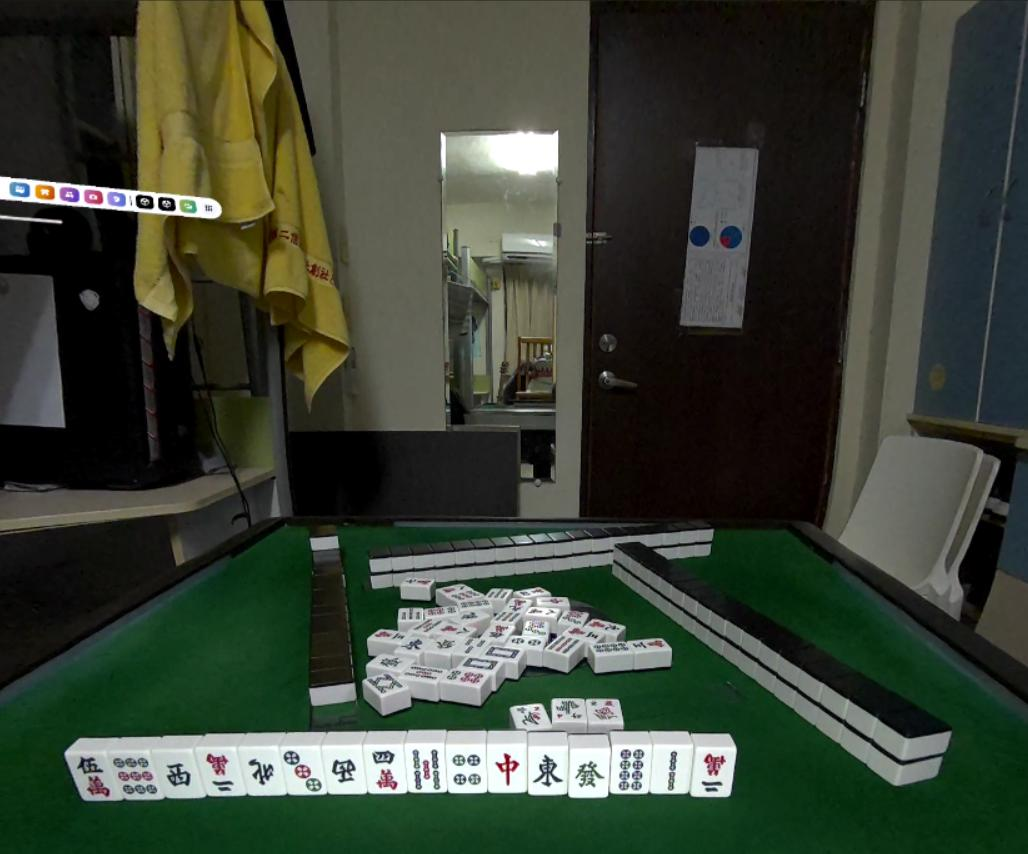mahjong: (101, 745, 161, 807), (149, 743, 211, 800), (57, 752, 112, 813), (526, 742, 573, 800), (277, 750, 327, 800), (440, 743, 488, 794), (200, 745, 243, 801), (360, 750, 410, 797), (570, 743, 613, 794), (240, 745, 279, 801), (691, 749, 736, 797), (614, 743, 653, 797), (319, 745, 362, 791), (653, 745, 693, 794), (491, 747, 527, 792), (407, 750, 446, 791)
